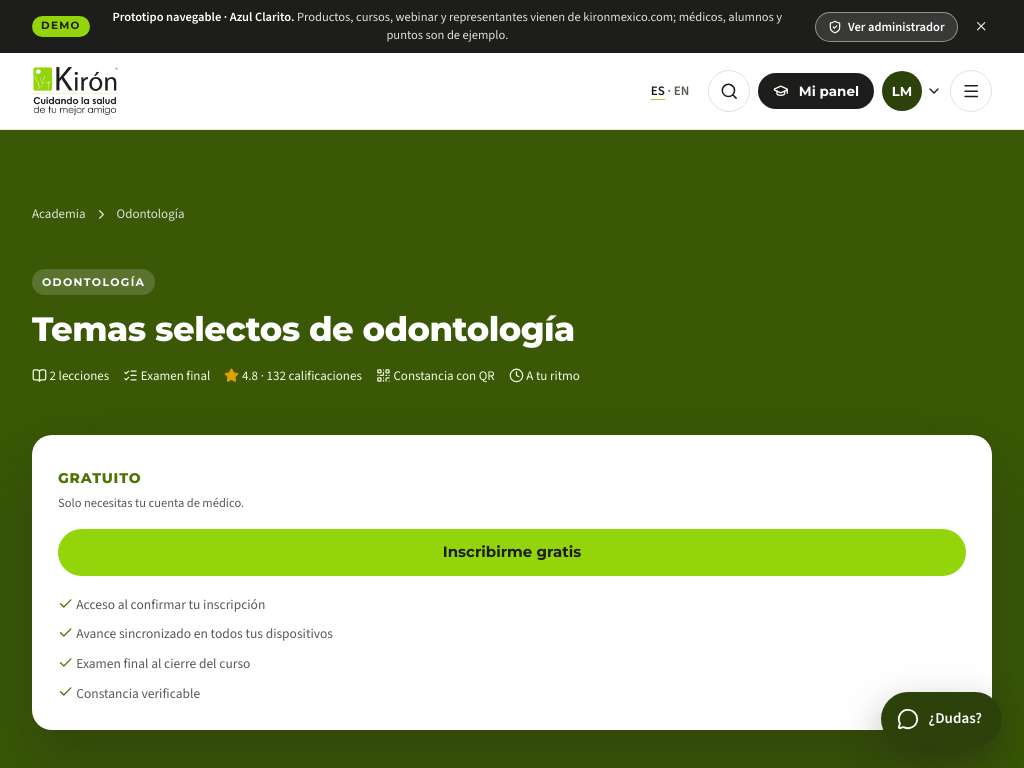
Test case: inscripción a cursos › curso gratuito: se inscribe con la API y abre la vista del curso
Click the button "Inscribirme gratis". click: click(512, 552)
box: [58,529,966,576]
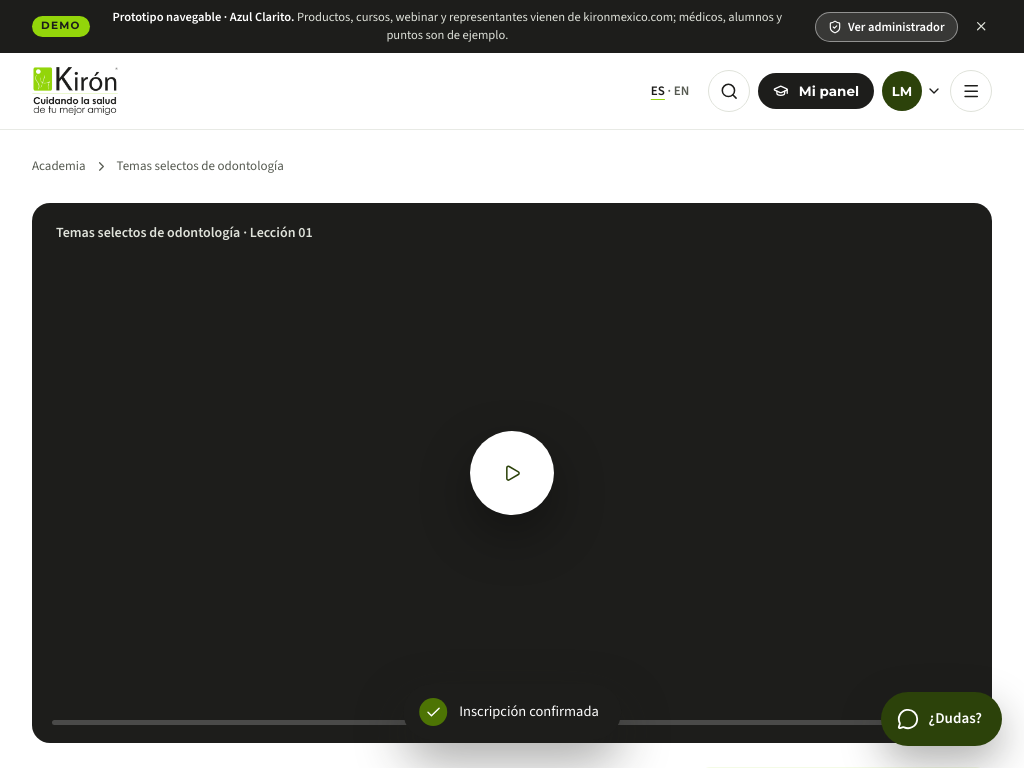
Now the button named "Reproducir lección" is shown, box [470,431,554,515]
Now the text "Inscripción confirmada" is shown, box [459,702,599,722]
